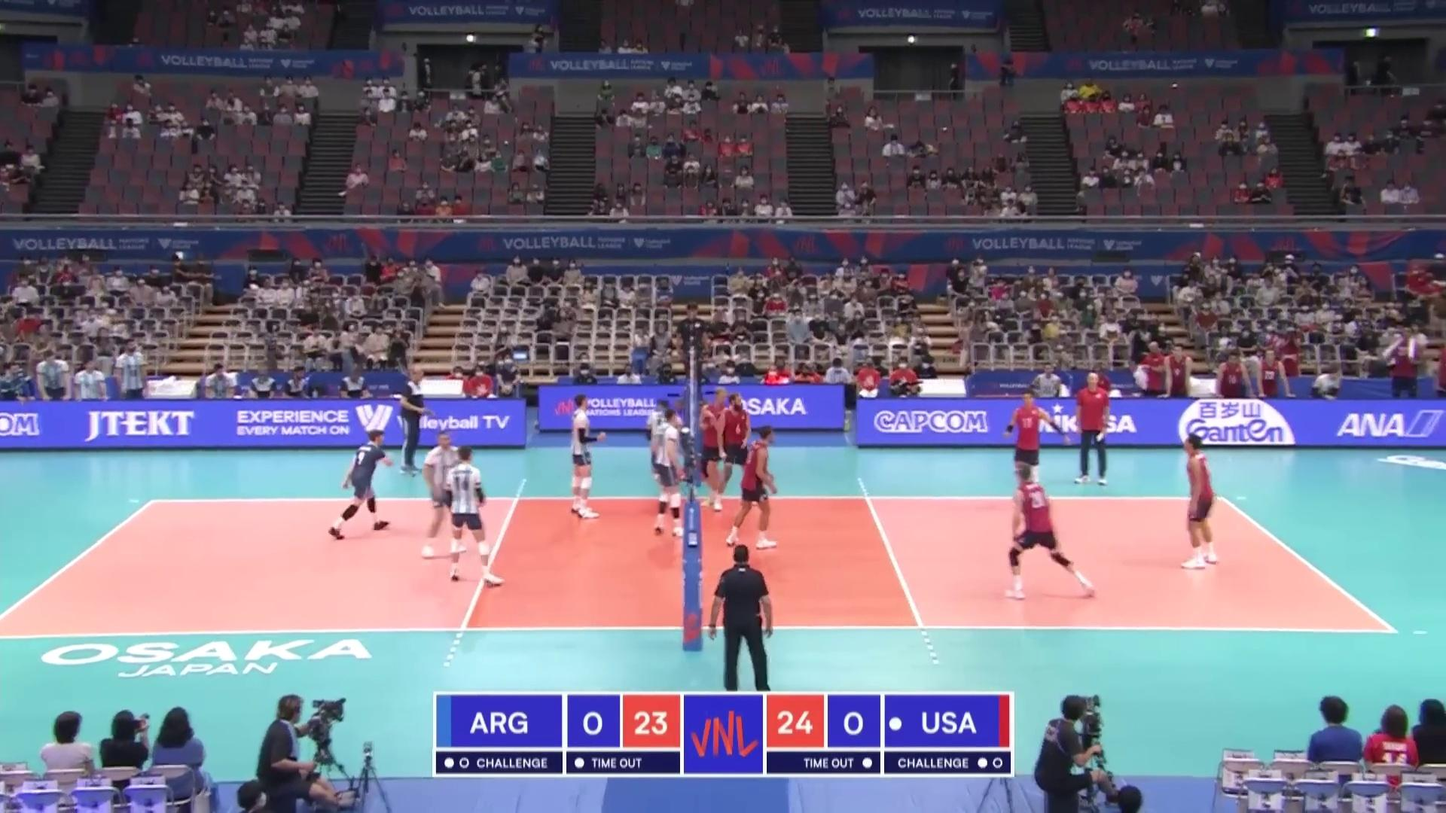player: (1003, 465, 1098, 600), (443, 446, 503, 586), (329, 432, 389, 541), (724, 426, 777, 546), (1007, 391, 1061, 502), (1180, 434, 1222, 569), (423, 432, 467, 559), (565, 394, 603, 521), (713, 392, 752, 507), (652, 410, 686, 540), (648, 400, 684, 504), (699, 389, 728, 516)
refree: (707, 545, 775, 692), (674, 303, 709, 397)
